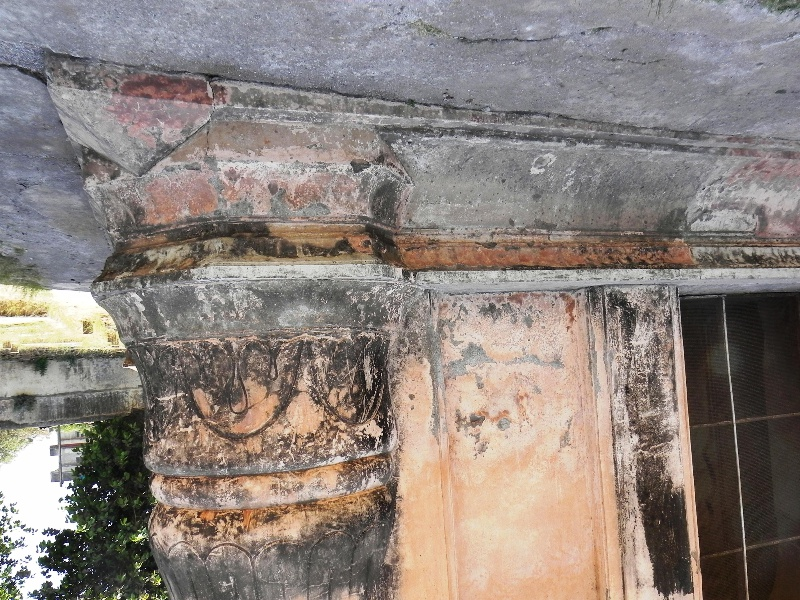Spalling: (264, 185, 331, 223)
